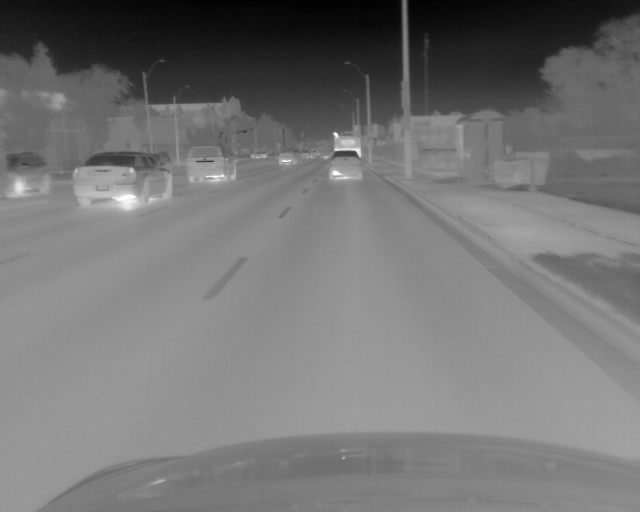car: (73, 153, 175, 211), (1, 151, 53, 196), (186, 145, 238, 184), (327, 152, 362, 179), (331, 130, 362, 156), (278, 148, 299, 166), (249, 150, 268, 160), (300, 149, 314, 161)
